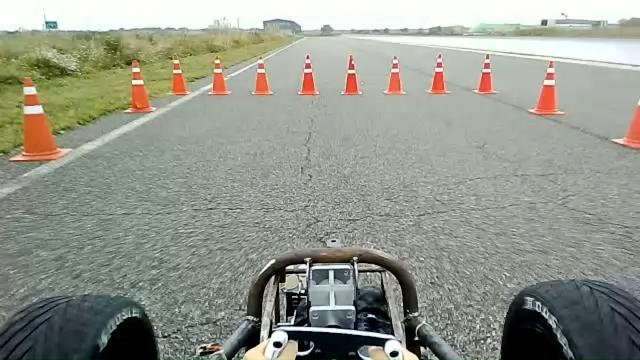red cone: (8, 76, 72, 162), (528, 60, 566, 115), (123, 59, 156, 113), (472, 53, 498, 94), (426, 52, 451, 94), (207, 55, 232, 95), (297, 53, 320, 96), (169, 52, 192, 94), (382, 55, 406, 95), (250, 55, 273, 95), (340, 54, 362, 95)
